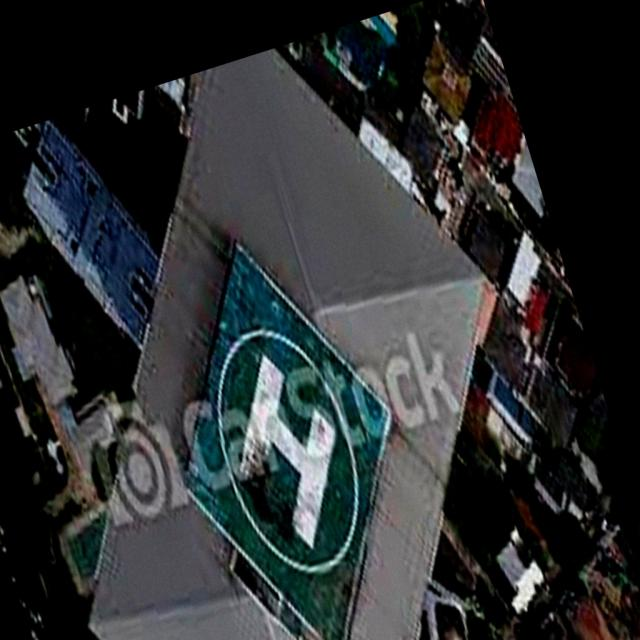helipad: (209, 326, 373, 576)
